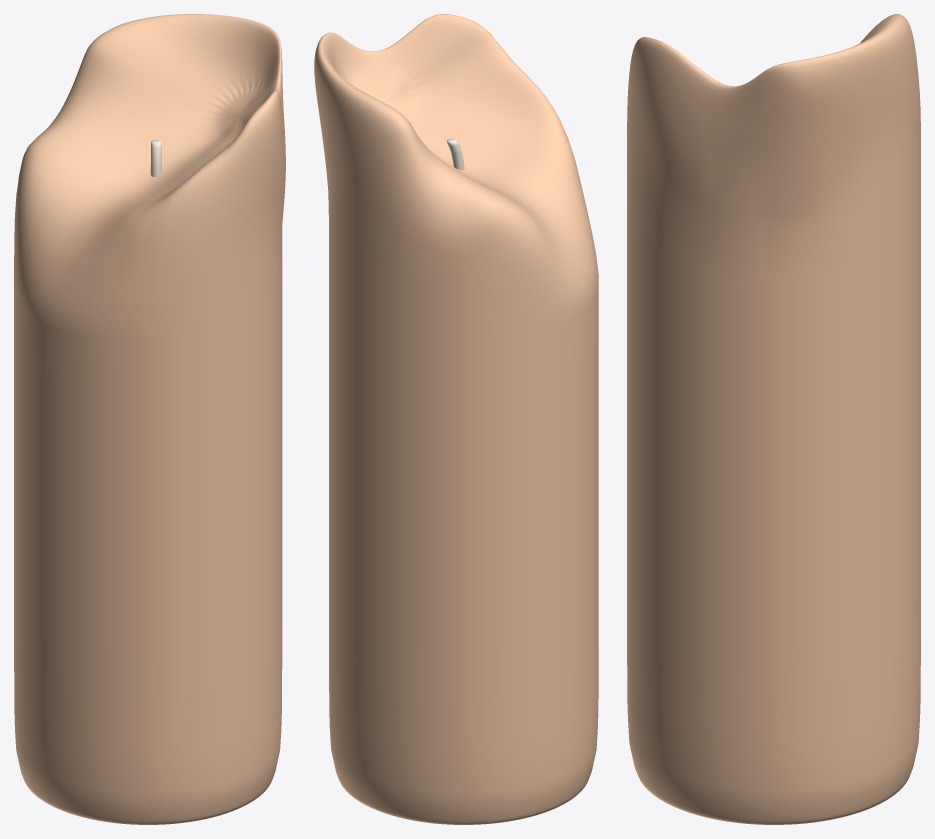
File: candle2.fbx
3 views of the same model, side by side, from view 1: azimuth 30°, elevation 25°; view 2: azimuth 150°, elevation 25°; view 3: azimuth 270°, elevation 25° (orthographic). The views are drawn at different scales.
Parts seen in each view (by area): view 1: Cylinder.002; view 2: Cylinder.002; view 3: Cylinder.002.
Boxes of the visible parts, left/top/right/bottom form: Cylinder.002: left=14, top=14, right=285, bottom=824; Cylinder.002: left=314, top=14, right=598, bottom=824; Cylinder.002: left=627, top=14, right=920, bottom=824.
Bounding box in the file's own units: 10.49 × 28.54 × 9.72.
2 materials, 2 textured.
